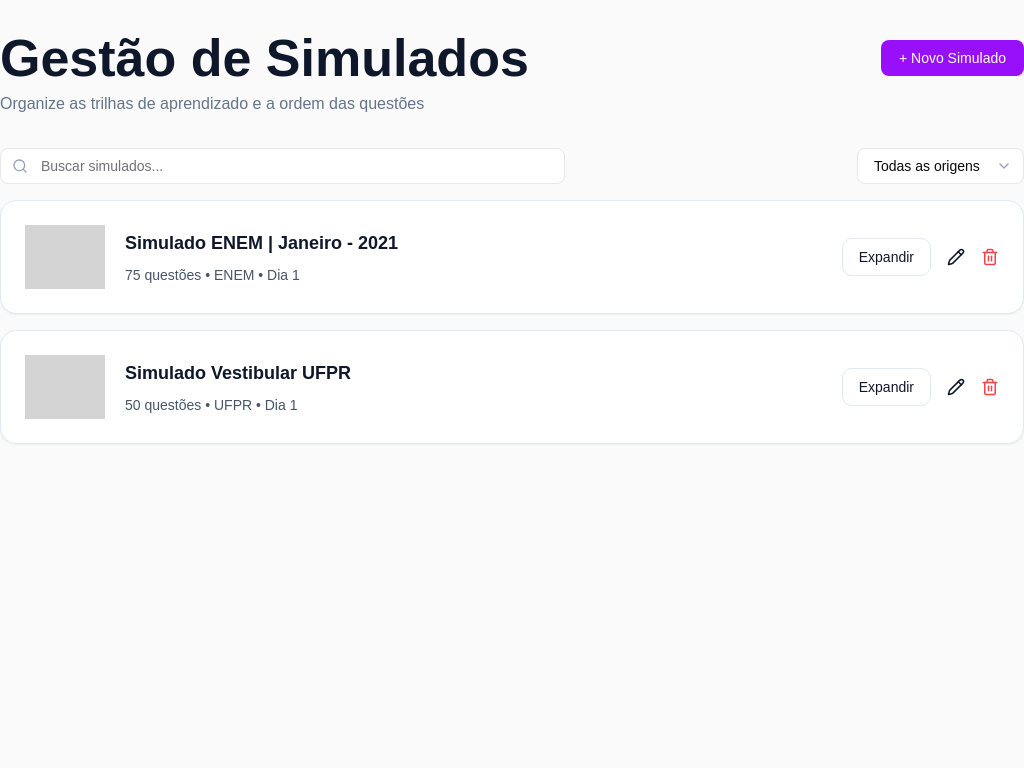
Test: ExamsPage › deve abrir o sheet de edição com dados preenchidos ao clicar em editar
The width and height of the screenshot is (1024, 768).
Expected: the heading "Simulado ENEM | Janeiro - 2021" is shown, left=125, top=233, right=398, bottom=253
Click the button named "Editar simulado" in the row of "Simulado ENEM | Janeiro - 2021".
click(956, 257)  # box left=947, top=248, right=965, bottom=266
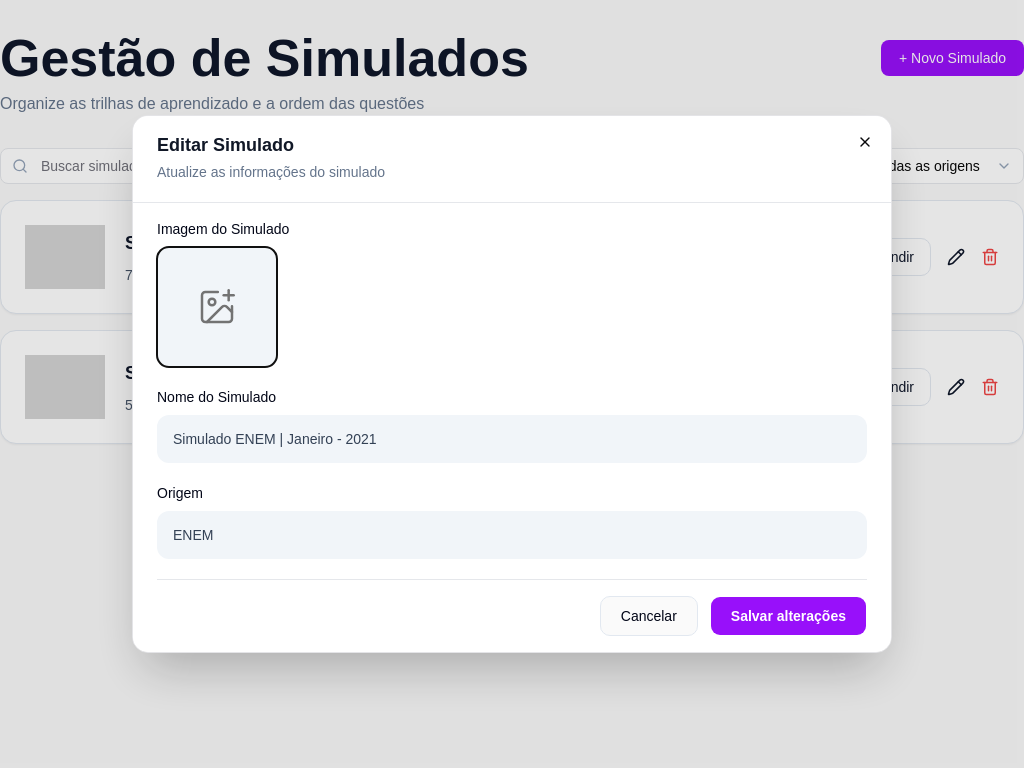
Expected: the heading "Editar Simulado" is shown, left=157, top=135, right=294, bottom=155
Expected: the field showing "Simulado ENEM | Janeiro - 2021" below "Nome do Simulado" is shown, left=157, top=415, right=867, bottom=463
Expected: the field showing "ENEM" below "Origem" is shown, left=157, top=511, right=867, bottom=559
